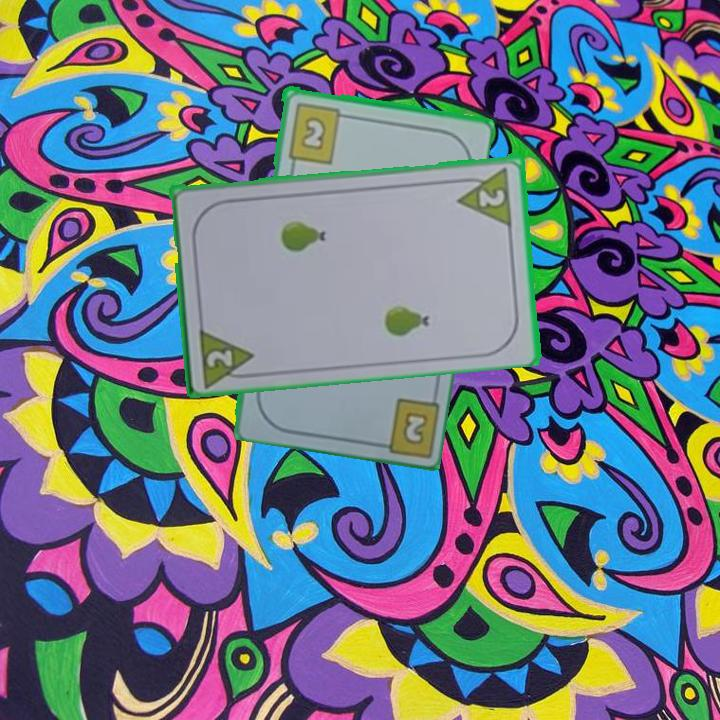2b: (368, 393, 440, 457), (284, 99, 352, 166)
2p: (452, 163, 516, 227), (196, 323, 259, 388)
